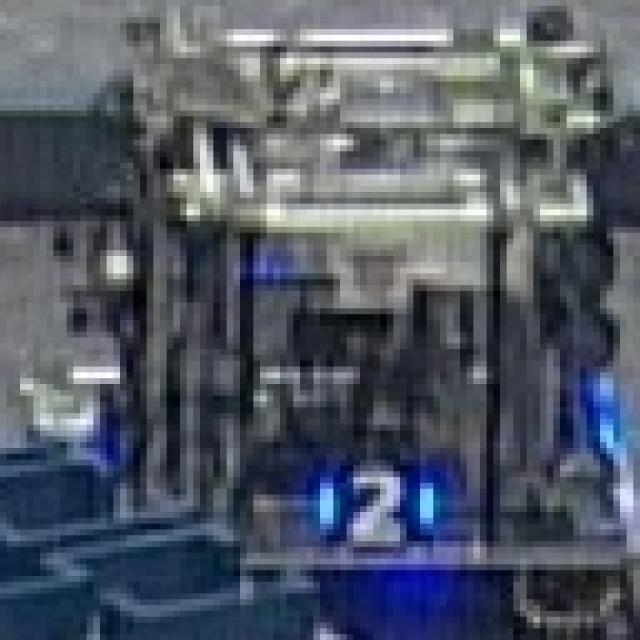B2: (287, 448, 440, 553)
